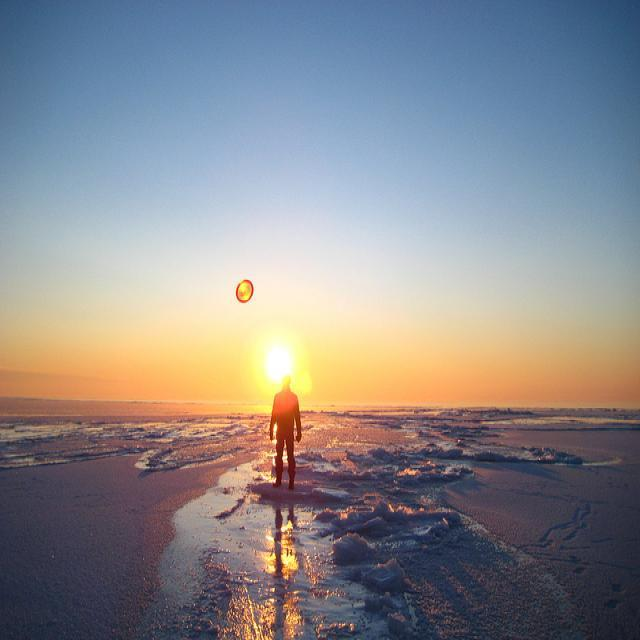non-dog: (267, 374, 304, 489)
